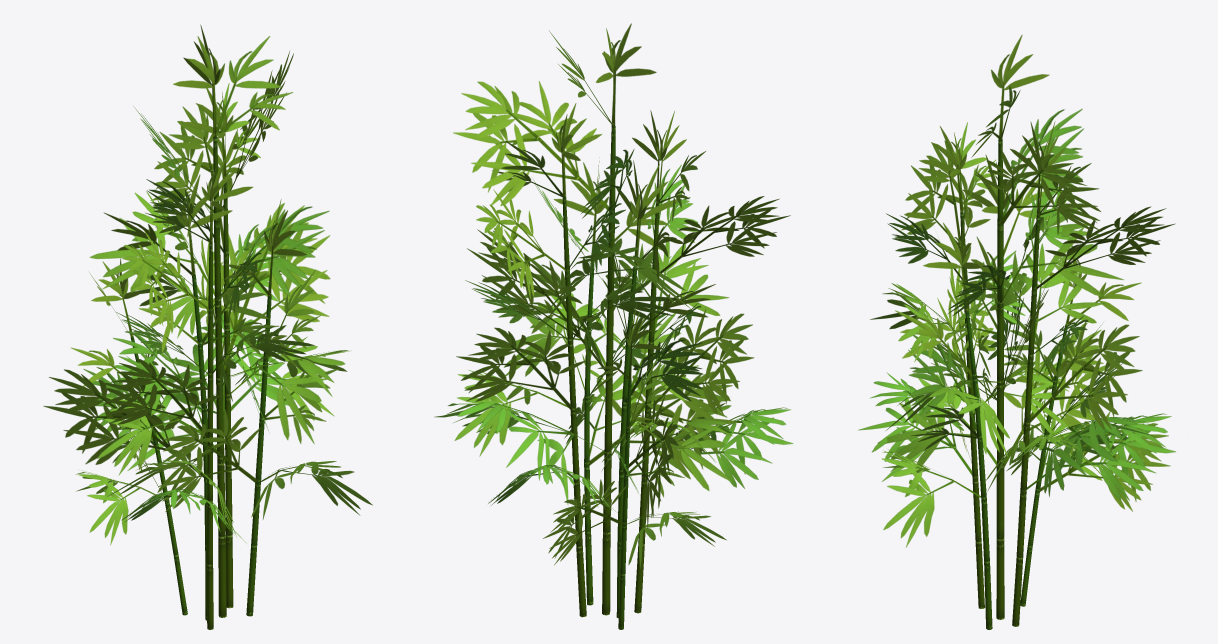
Rendered from bamboo.glb.
The picture shows the model from 3 angles, left to right: view 1: azimuth 30°, elevation 25°; view 2: azimuth 150°, elevation 25°; view 3: azimuth 270°, elevation 25°; orthographic projection. The views are drawn at different scales.
Parts seen in each view (by area): view 1: Object_2; view 2: Object_2; view 3: Object_2.
Boxes of the visible parts, x1,y1,x2,y2 form: Object_2: [43, 25, 372, 629]; Object_2: [434, 23, 793, 629]; Object_2: [858, 35, 1175, 629].
Bounding box in the file's own units: 1.78 × 3.23 × 1.8.
Materials: 1 (1 with a texture image).
